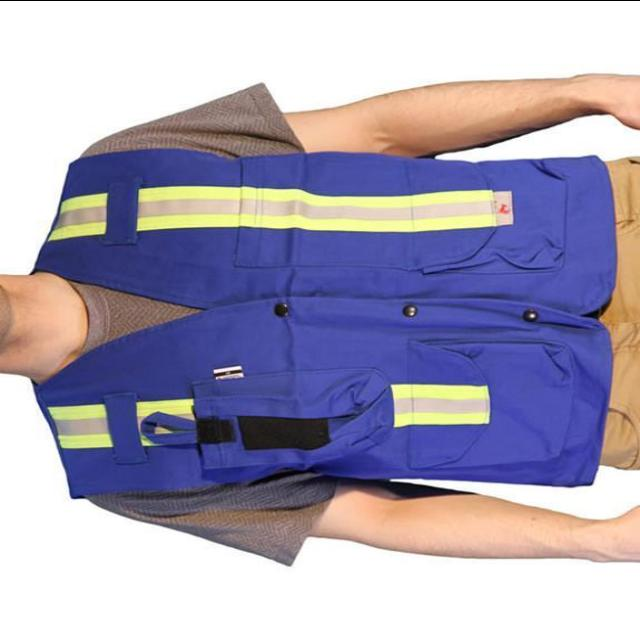jacket: (24, 105, 614, 493)
